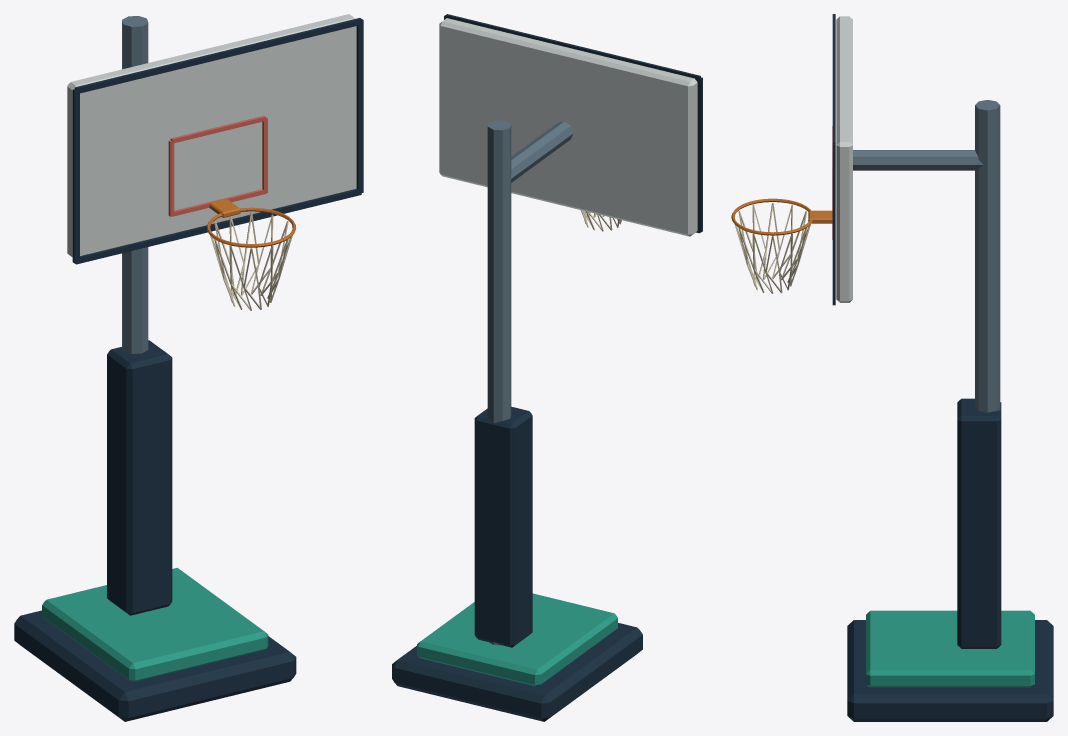
File: basketball-hoop.glb
The picture shows the model from 3 angles, left to right: view 1: azimuth 30°, elevation 25°; view 2: azimuth 150°, elevation 25°; view 3: azimuth 270°, elevation 25°; orthographic projection. The views are drawn at different scales.
Visible parts, largest first — view 1: backboard, post_pad, base_pad, base, backboard_frame, support_post, net, backboard_target, rim; view 2: backboard, post_pad, base_pad, base, support_post, backboard_frame, backboard_arm; view 3: base_pad, post_pad, base, support_post, backboard, backboard_arm, net, backboard_frame, rim.
Boxes of the visible parts, box(x1,y1,x2,y2) form: backboard: box(67, 14, 356, 257); post_pad: box(107, 340, 172, 615); base_pad: box(42, 567, 268, 681); base: box(14, 610, 296, 721); backboard_frame: box(72, 18, 363, 264); support_post: box(122, 16, 148, 353); net: box(210, 212, 292, 310); backboard_target: box(168, 115, 267, 216); rim: box(206, 207, 296, 247); backboard: box(439, 18, 697, 236); post_pad: box(474, 406, 532, 647); base_pad: box(417, 593, 617, 686); base: box(392, 623, 642, 721); support_post: box(487, 120, 511, 645); backboard_frame: box(444, 14, 702, 233); backboard_arm: box(510, 121, 573, 182); base_pad: box(866, 610, 1034, 687); post_pad: box(957, 398, 1001, 648); base: box(847, 620, 1053, 721); support_post: box(975, 100, 1000, 412); backboard: box(836, 16, 852, 302); backboard_arm: box(853, 150, 982, 170); net: box(734, 203, 810, 293); backboard_frame: box(832, 14, 835, 305); rim: box(731, 198, 812, 235).
Bounding box in the file's own units: 1.83 × 3.95 × 1.91.
